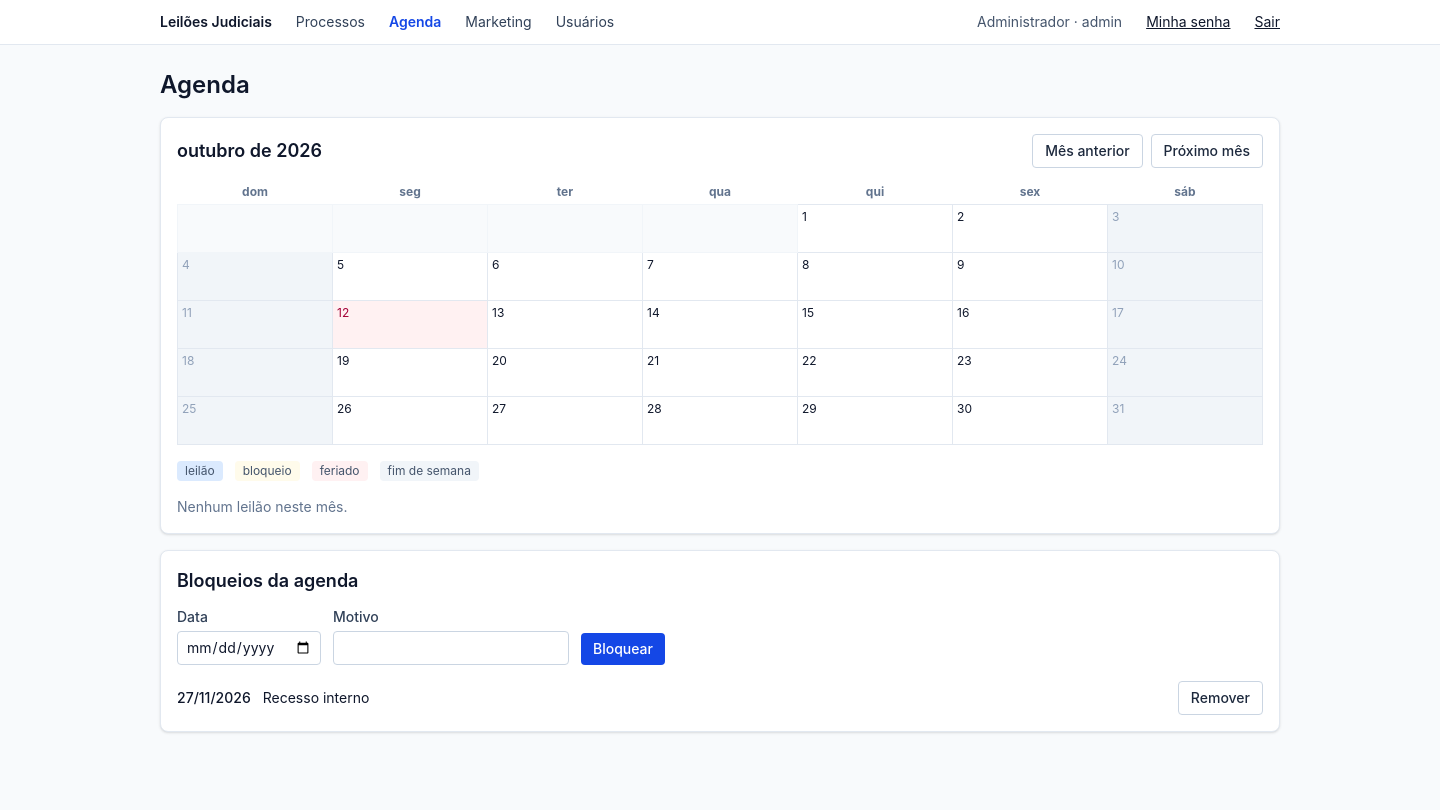
AgendaPage › admin remove bloqueio
Expected: the text "Recesso interno" is shown, [263, 688, 369, 708]
Click the button with aria-label "Remover bloqueio 27/11/2026" at (1220, 698), box [1178, 681, 1263, 715]
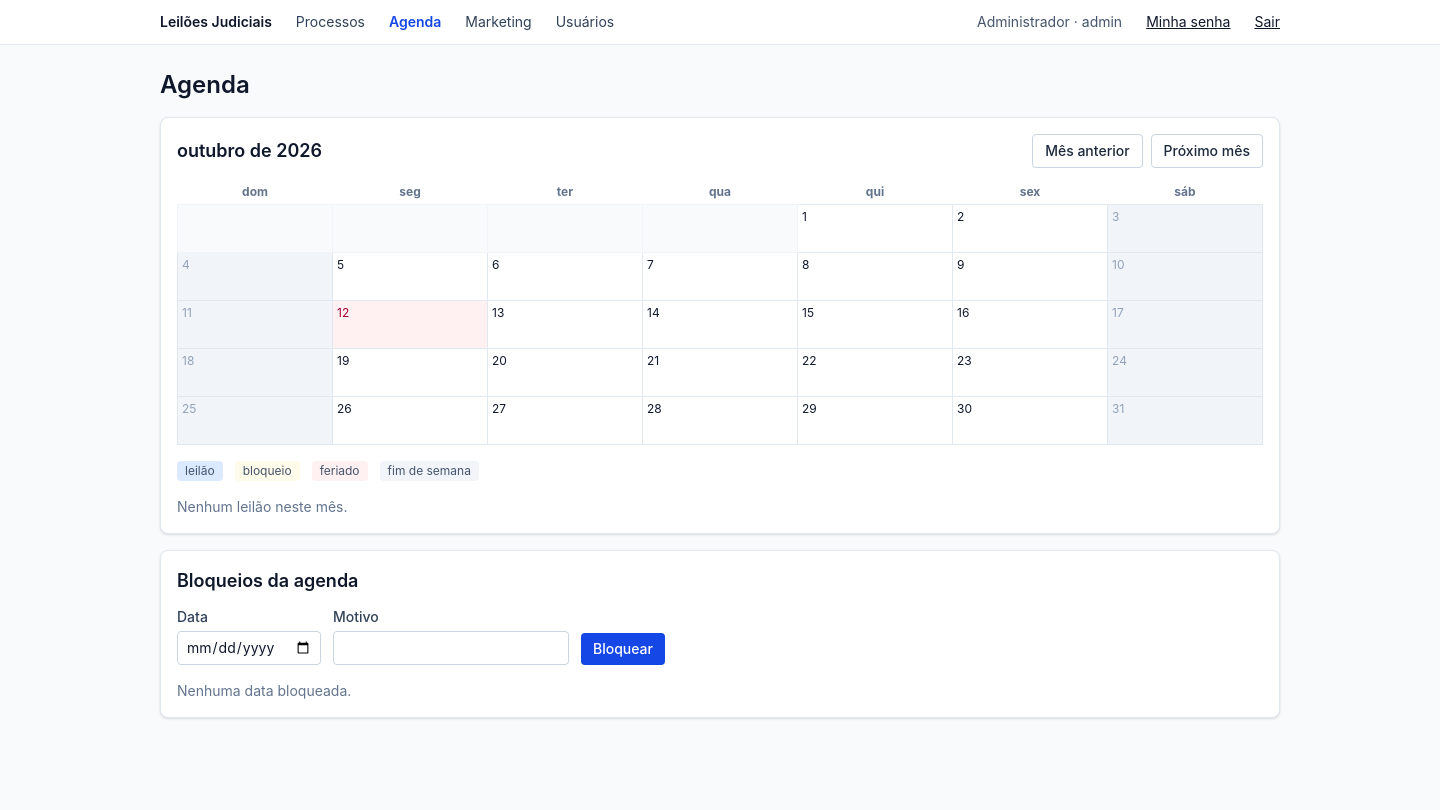
Result: the text "Recesso interno" is gone
